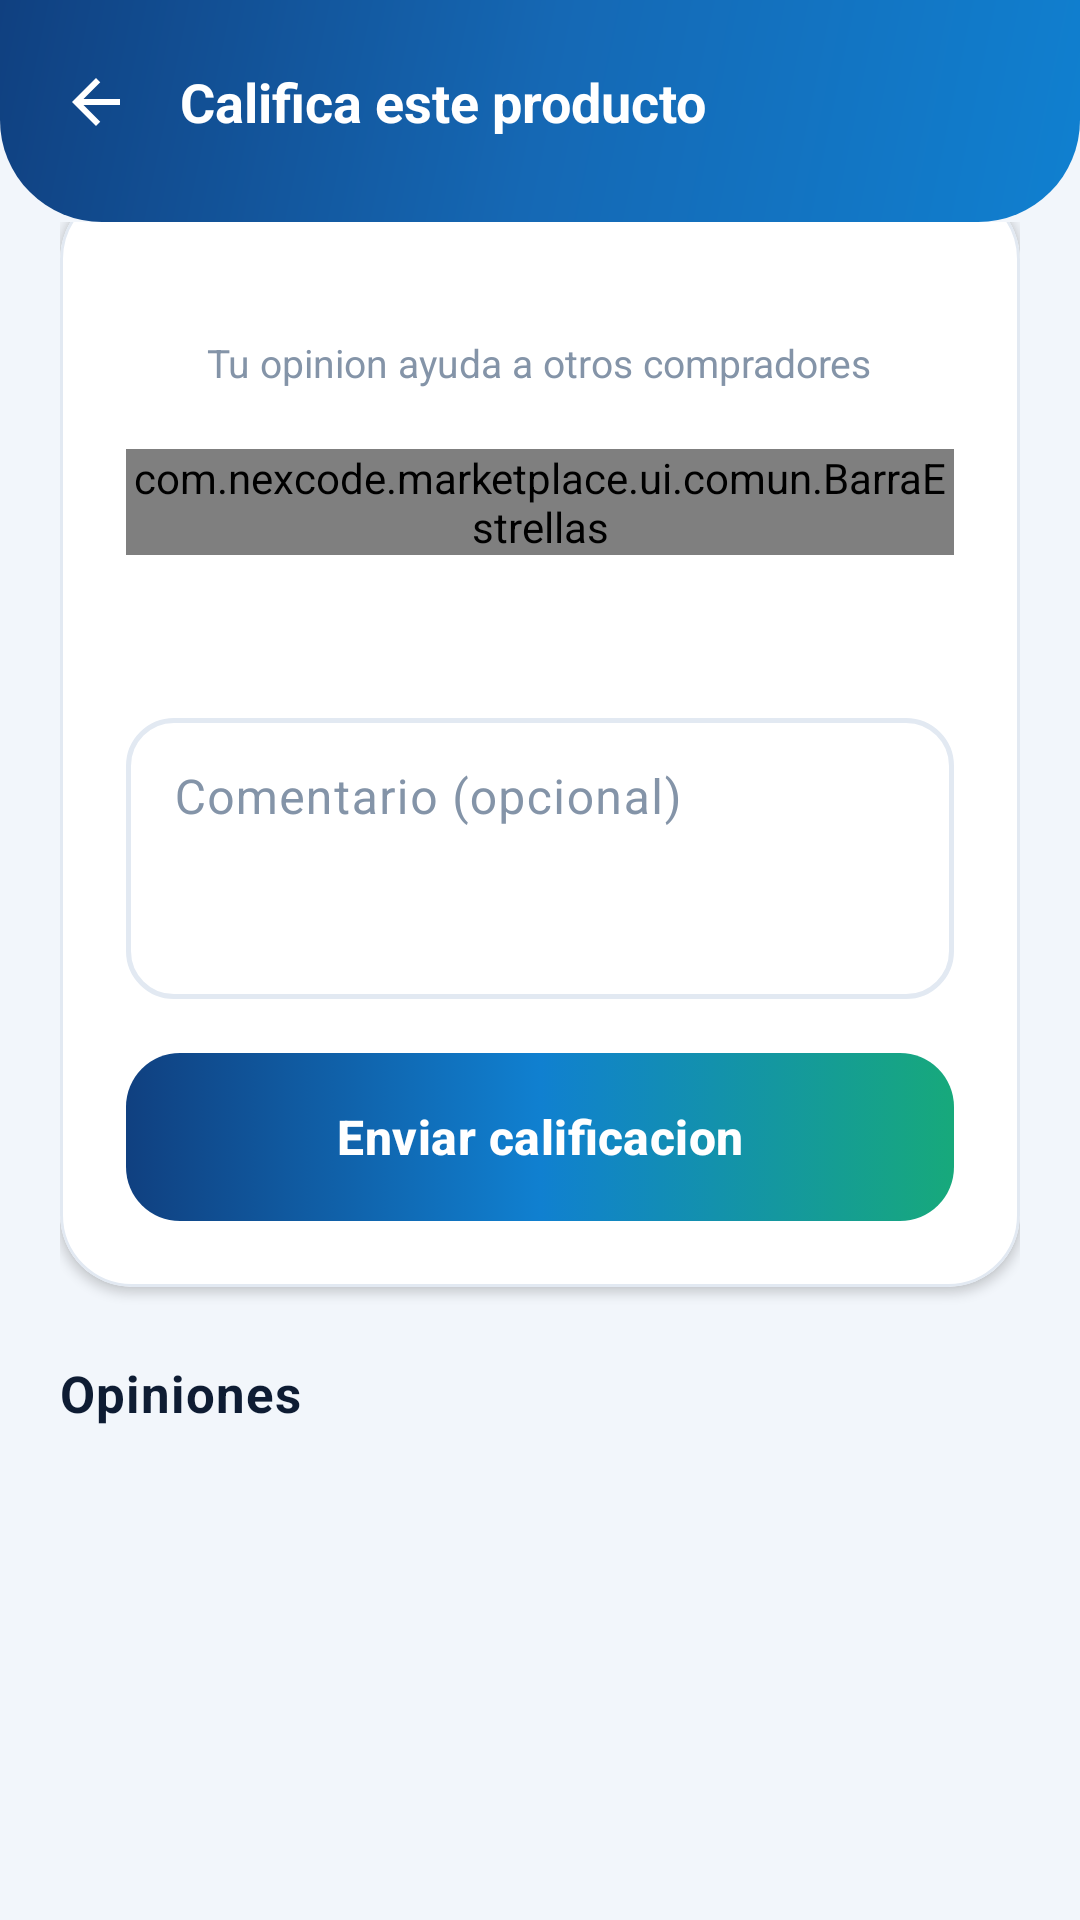

Named icons in this screenshot (1080x1920) and their centers, (x=x, y=y):
Volver: (x=96, y=102)
